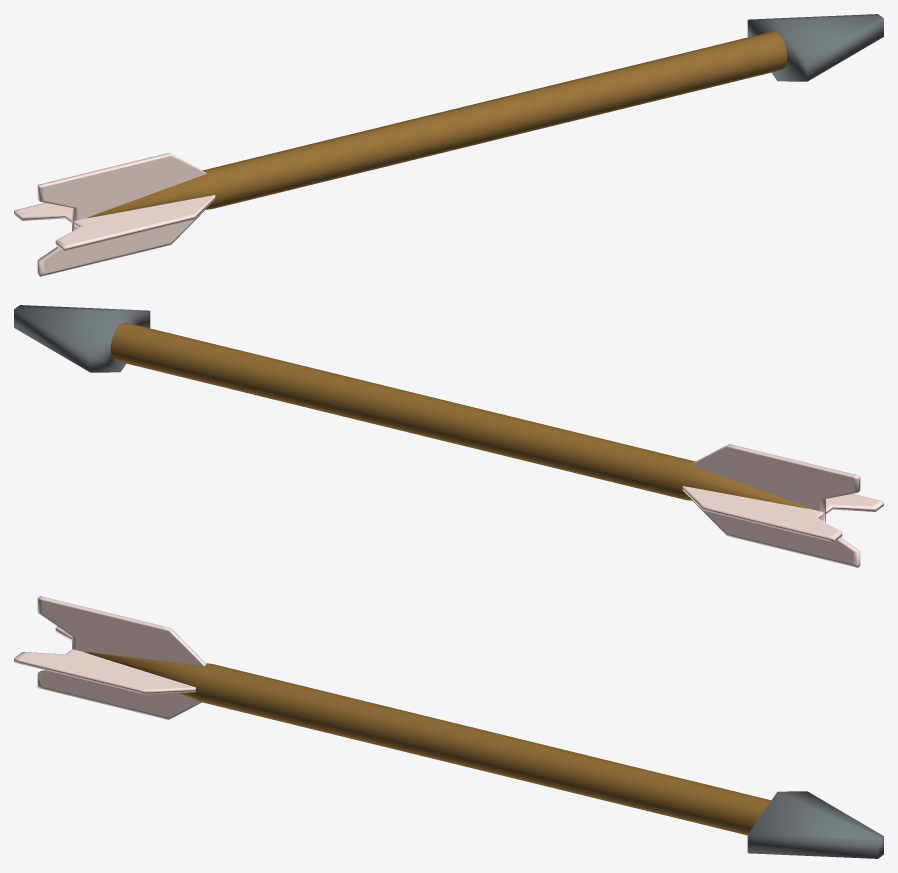
File: Arrow.fbx
3 renders of one model, top to bottom at view 1: azimuth 30°, elevation 25°; view 2: azimuth 150°, elevation 25°; view 3: azimuth 330°, elevation 25°, orthographic.
Parts seen in each view (by area): view 1: Cube; view 2: Cube; view 3: Cube.
Boxes of the visible parts, box(x1,y1,x2,y2) form: Cube: box(14, 14, 883, 276); Cube: box(14, 305, 883, 567); Cube: box(14, 596, 883, 858).
Bounding box in the file's own units: 244 × 25 × 30.
